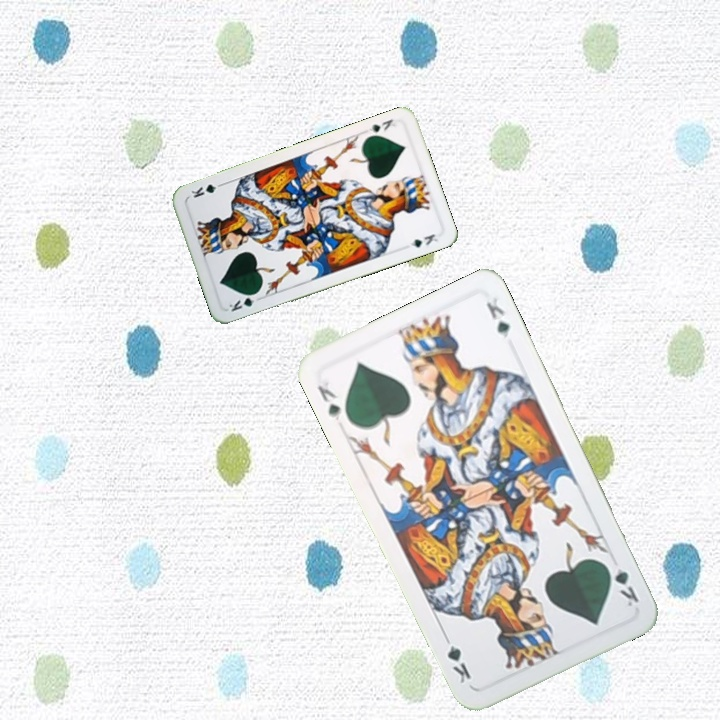GK: (601, 559, 642, 610), (313, 381, 344, 424), (225, 288, 264, 314), (365, 115, 398, 135)
